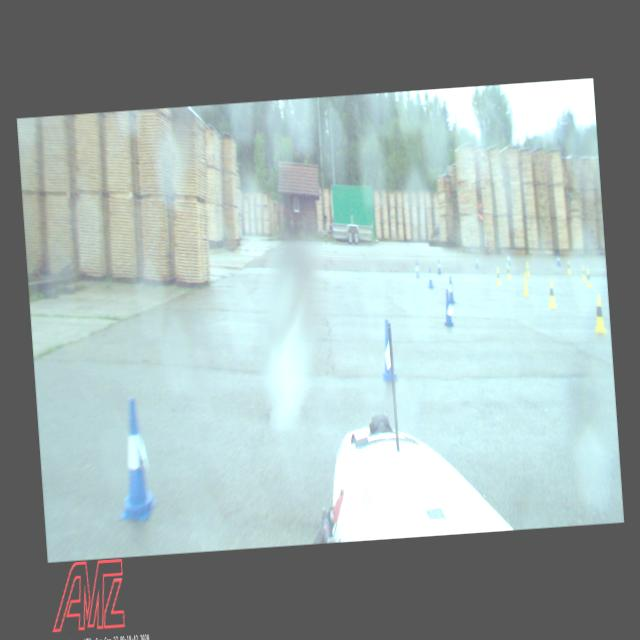blue_cone: (111, 397, 158, 524), (378, 319, 398, 382), (440, 288, 452, 326), (446, 276, 455, 304), (427, 266, 434, 288), (414, 260, 419, 278), (506, 252, 511, 268), (436, 260, 441, 274), (556, 252, 560, 266), (474, 255, 478, 268)
yellow_cone: (592, 294, 606, 332), (547, 278, 555, 307), (522, 274, 528, 297), (495, 265, 500, 285), (585, 267, 590, 287), (505, 262, 510, 280), (566, 258, 571, 274), (525, 260, 530, 276), (581, 264, 585, 280)
